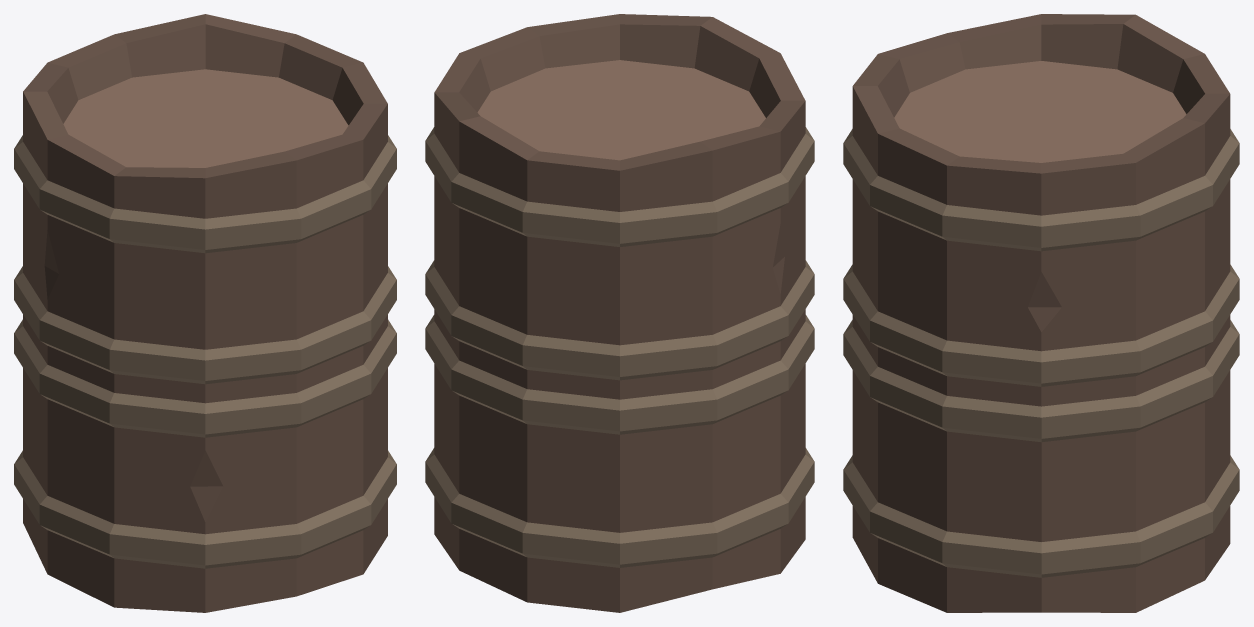
File: RopeBarrel.fbx
3 views of the same model, side by side, from view 1: azimuth 30°, elevation 25°; view 2: azimuth 150°, elevation 25°; view 3: azimuth 270°, elevation 25° (orthographic). The views are drawn at different scales.
Visible parts, largest first — view 1: RopeBarrel; view 2: RopeBarrel; view 3: RopeBarrel.
Boxes of the visible parts, <box> form: RopeBarrel: <box>14,14,396,612</box>; RopeBarrel: <box>425,14,814,612</box>; RopeBarrel: <box>843,14,1239,612</box>.
Bounding box in the file's own units: 0.72 × 0.72 × 0.9339.
